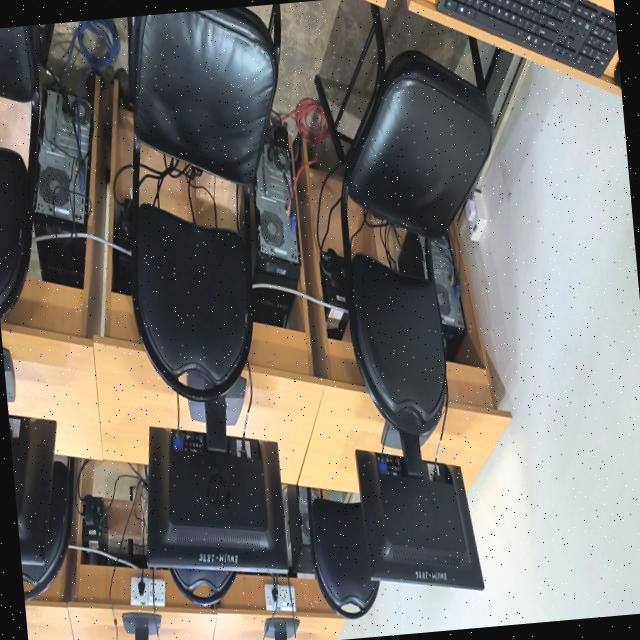Chair: (337, 3, 492, 433), (129, 147, 252, 400), (127, 2, 280, 185), (0, 22, 53, 320), (306, 496, 378, 618), (20, 460, 71, 598), (168, 568, 235, 605)
Cpu: (33, 86, 91, 288), (253, 131, 300, 289), (429, 235, 465, 358), (255, 290, 291, 324), (407, 238, 426, 269)
Keyboard: (427, 0, 617, 77)
Monitor: (146, 376, 287, 572), (354, 420, 482, 589), (1, 347, 55, 564), (121, 611, 159, 640), (263, 618, 297, 640)
